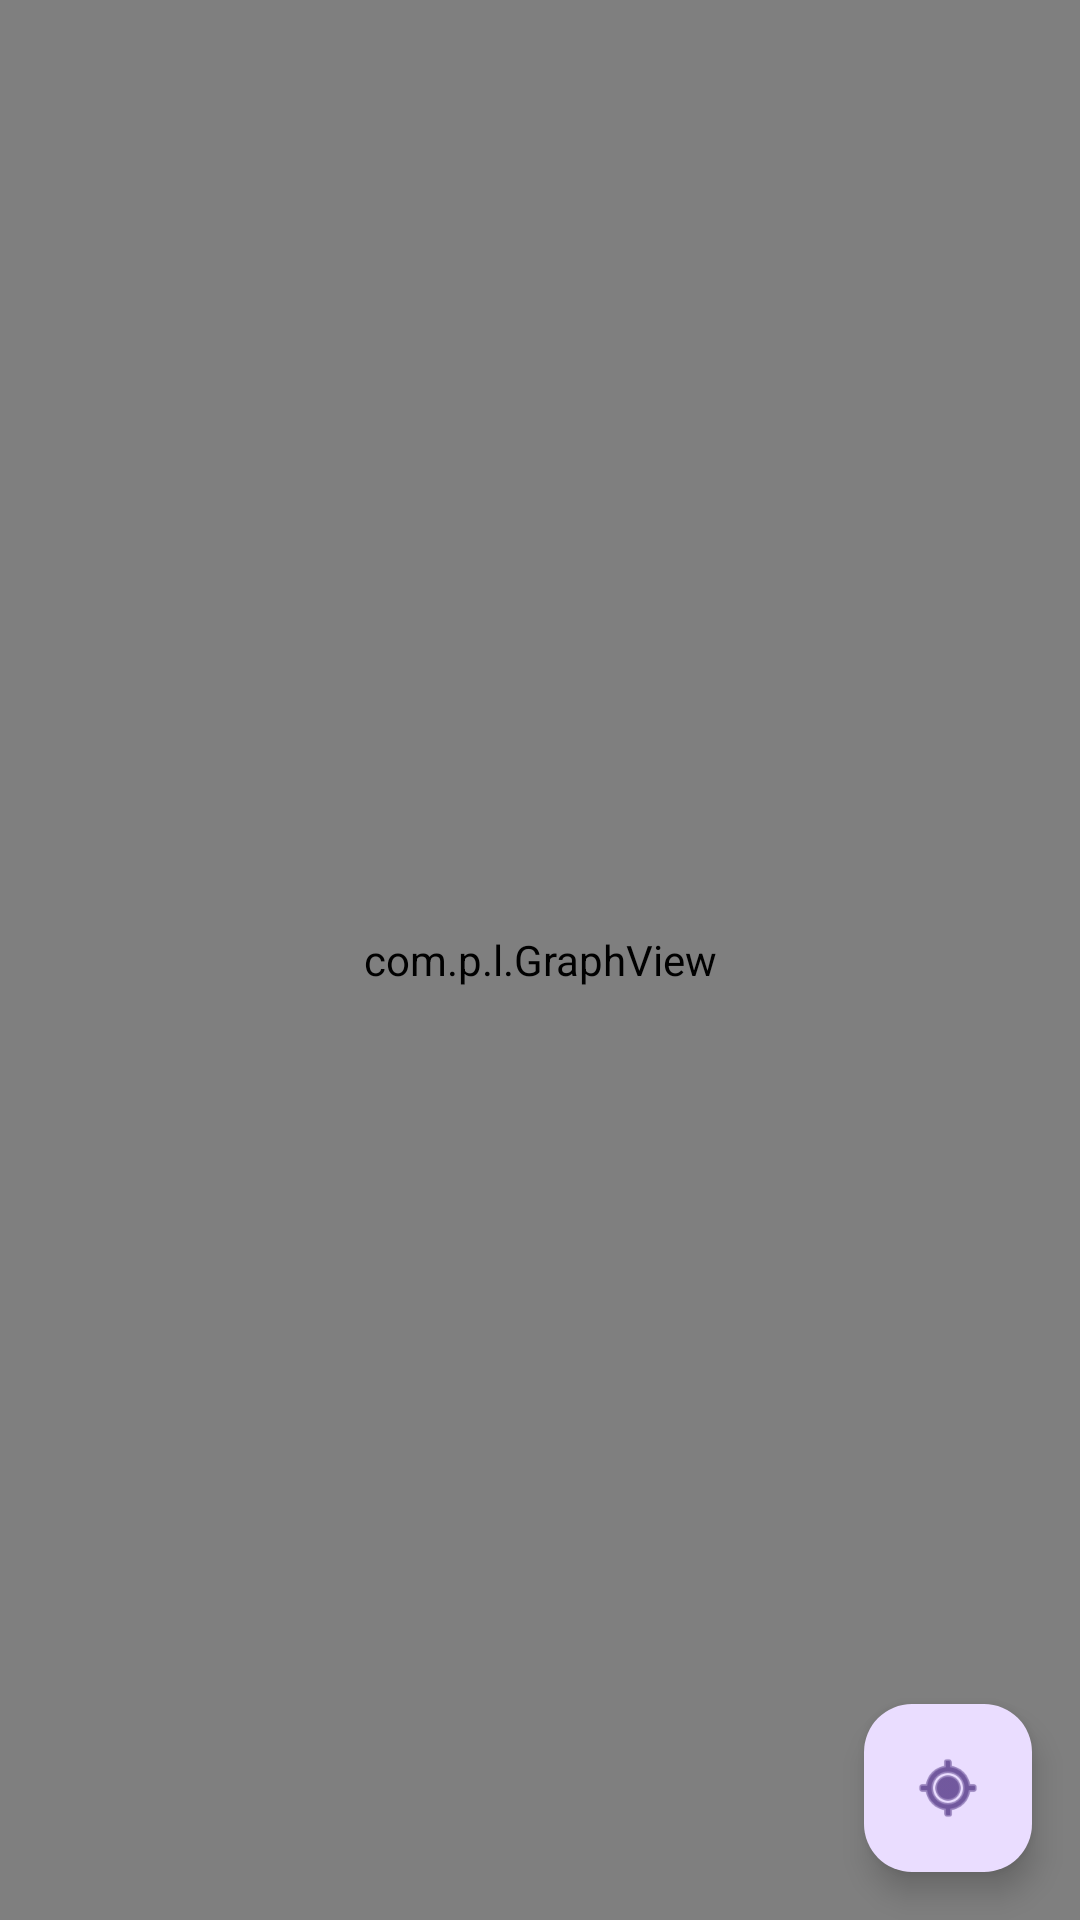

Named icons in this screenshot (1080 x 1920) and their centers, point (x, y):
mylocation: point (948, 1788)
